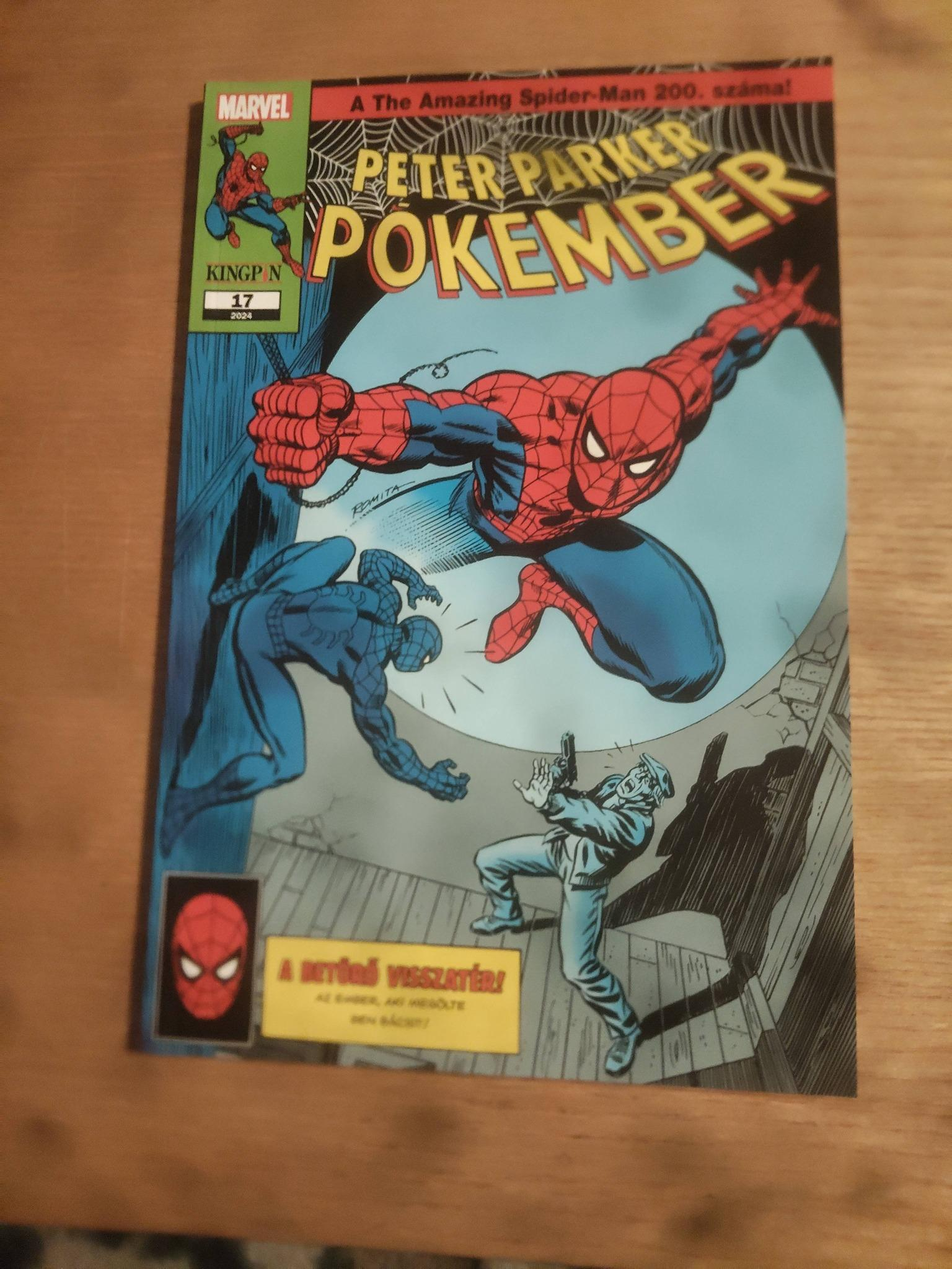comic: (140, 60, 855, 1094)
